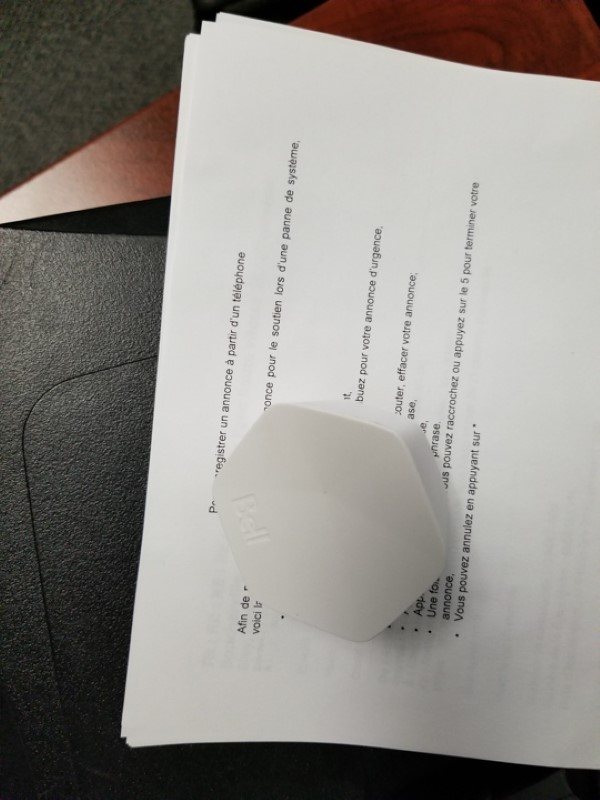pod: (211, 390, 473, 649)
